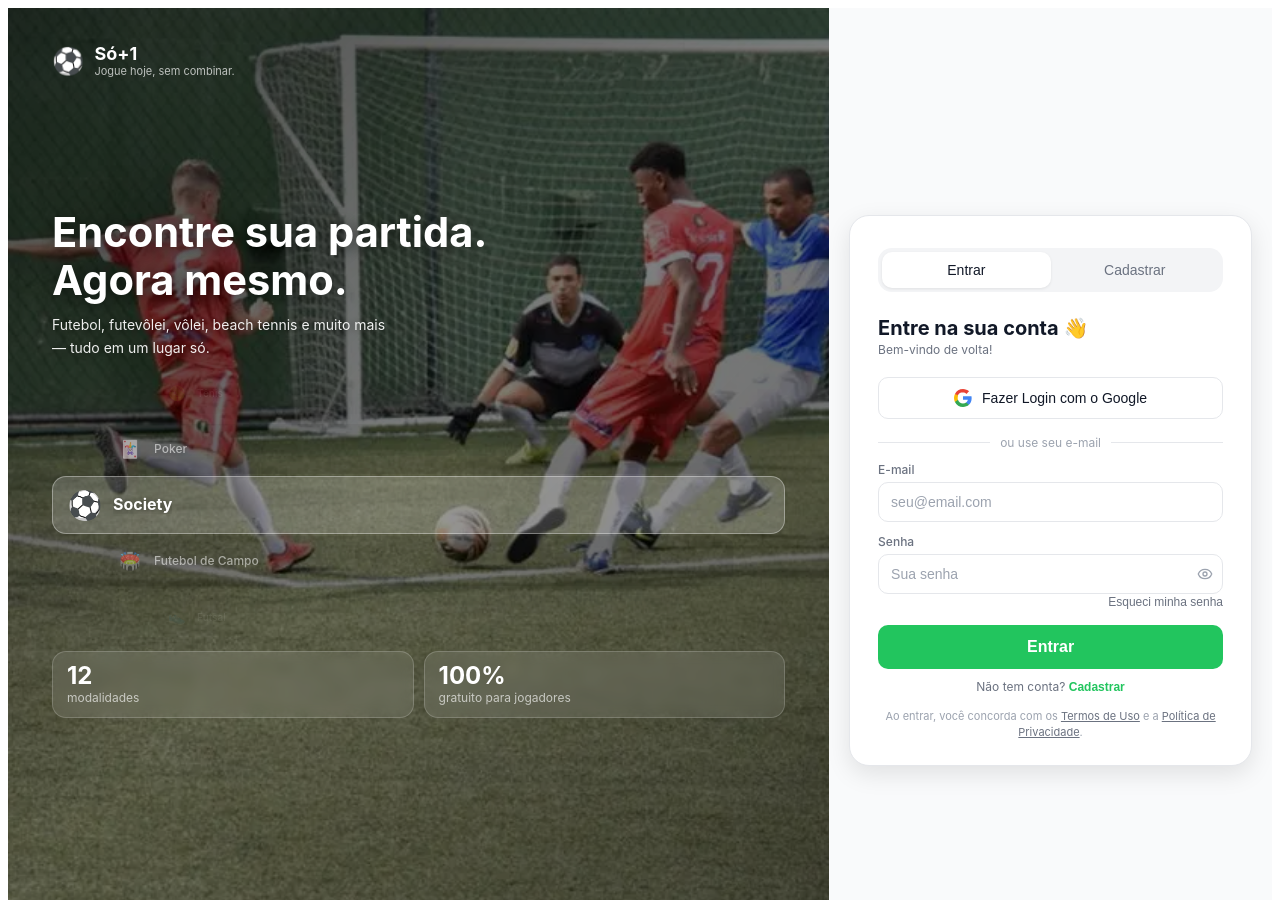
Test: Login — credenciais › mostra na tela a mensagem que a API devolveu
This screenshot has width=1280, height=900.
Type "mateus@exemplo.com" into the field with placeholder "seu@email.com" at (1051, 502), box x1=878 y1=482 x2=1223 y2=522
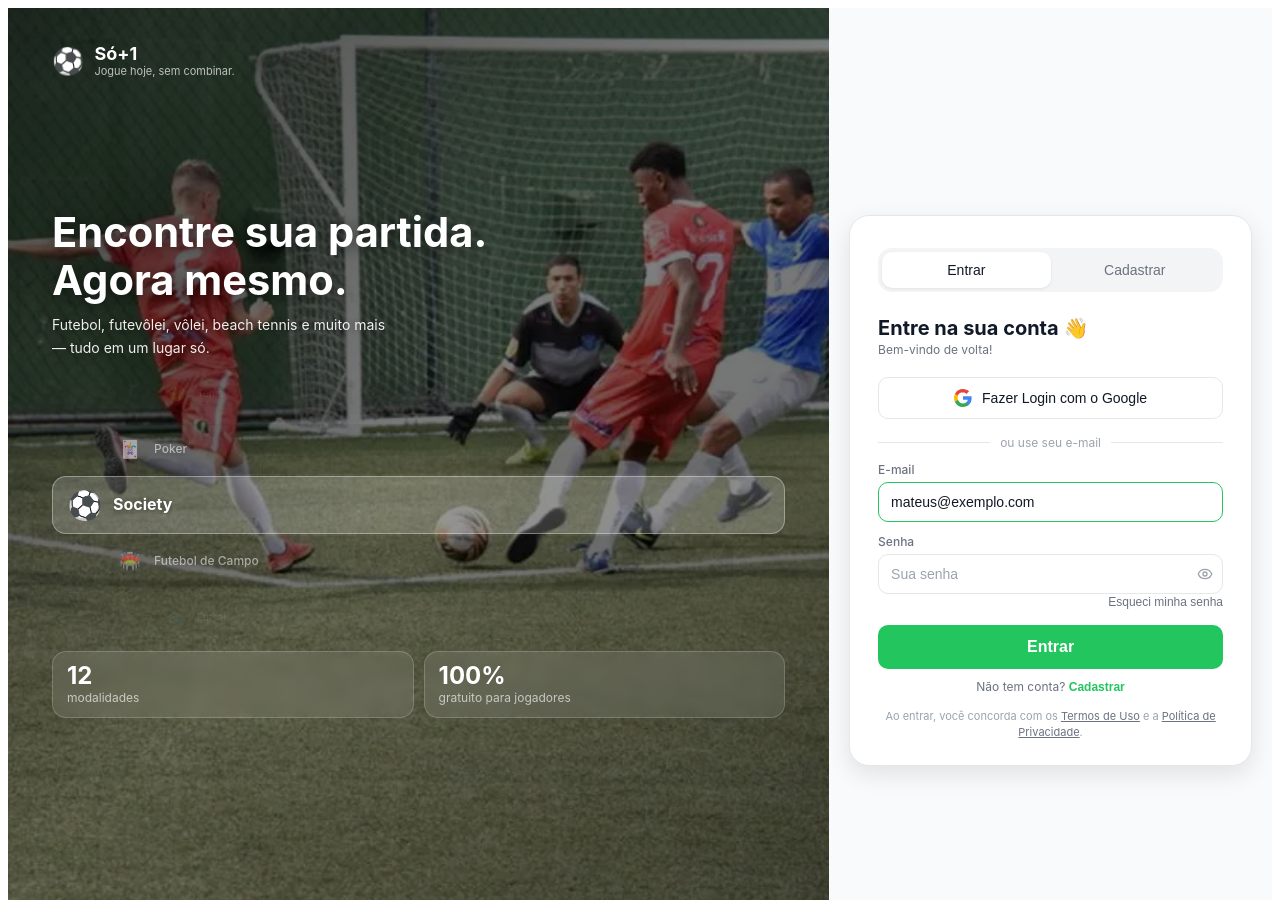
Type "senha-errada" into the password field with placeholder "Sua senha" at (1051, 574), box x1=878 y1=554 x2=1223 y2=594
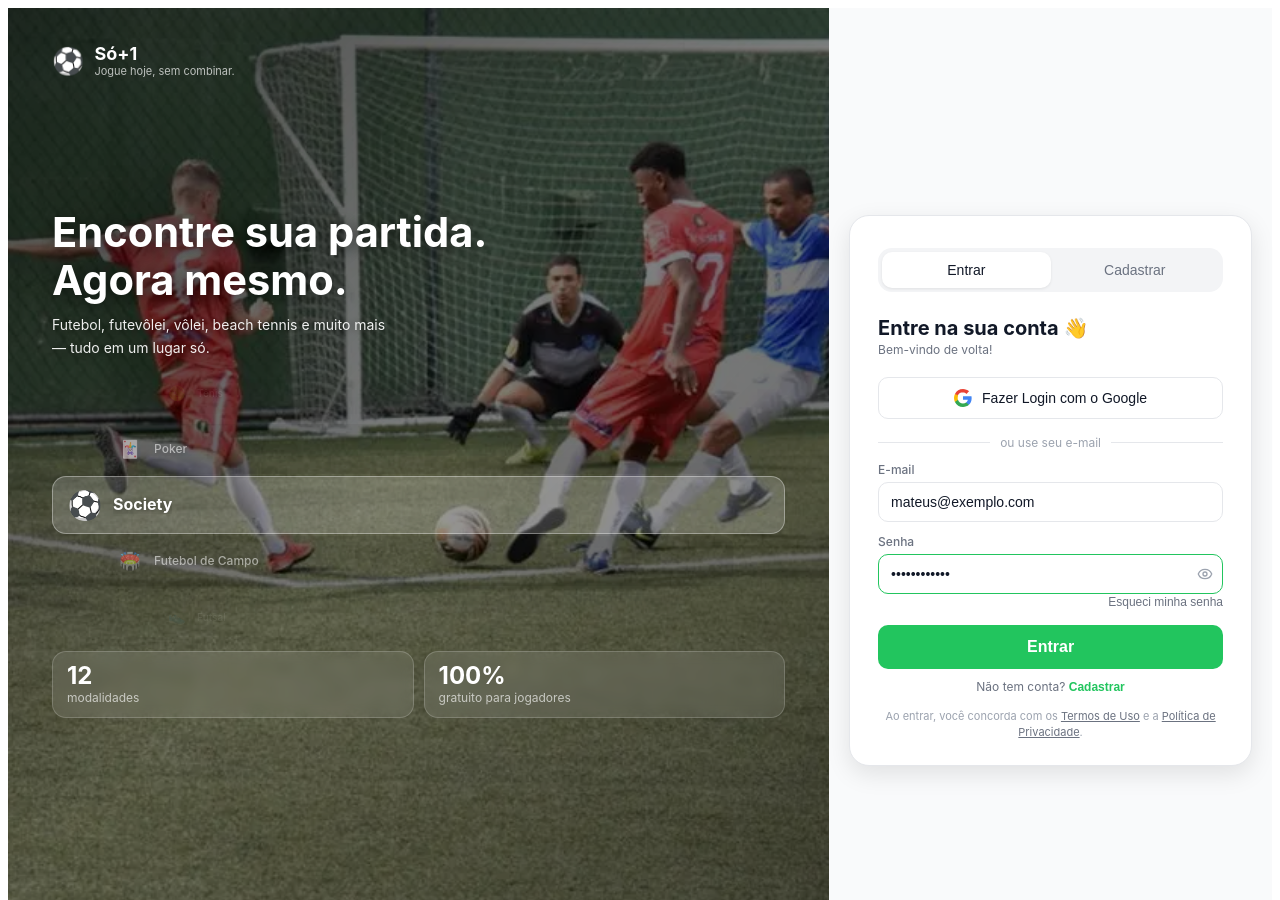
Click the 2nd button "Entrar" at (1051, 646), box x1=878 y1=624 x2=1223 y2=668
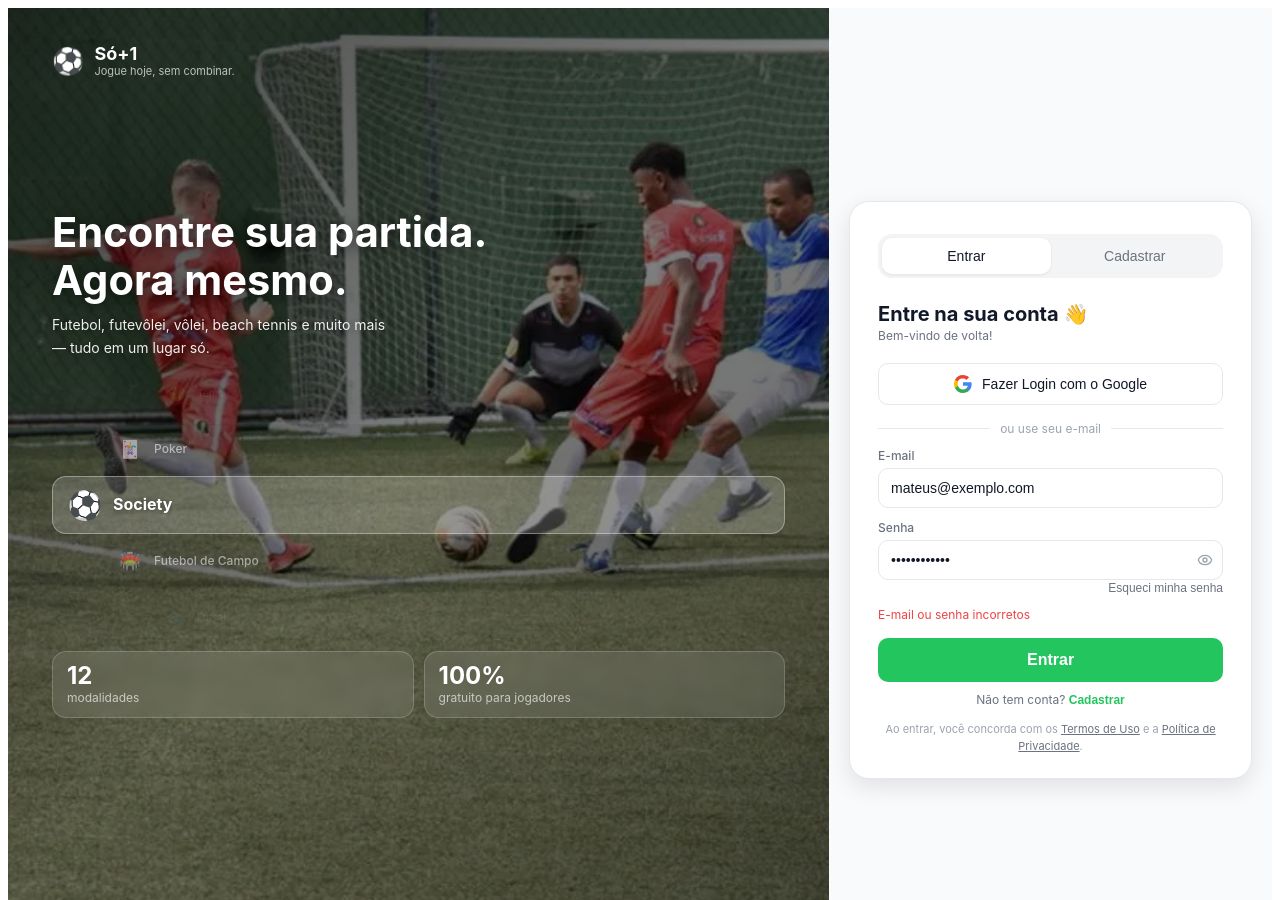
Now the text "E-mail ou senha incorretos" is shown, box x1=878 y1=607 x2=1030 y2=622
